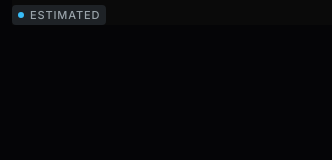
EstimatedBadge › a press shows the formula as visible text; a second press or Escape hides it
This screenshot has width=332, height=160.
Later steps or results of the test are not shown.
Click the button "Estimated".
click(59, 15)  # box [12,5,106,25]
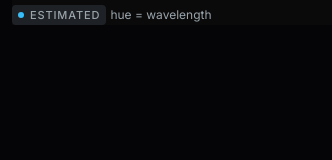
Result: the text "hue = wavelength" is shown at [110,7,212,23]
